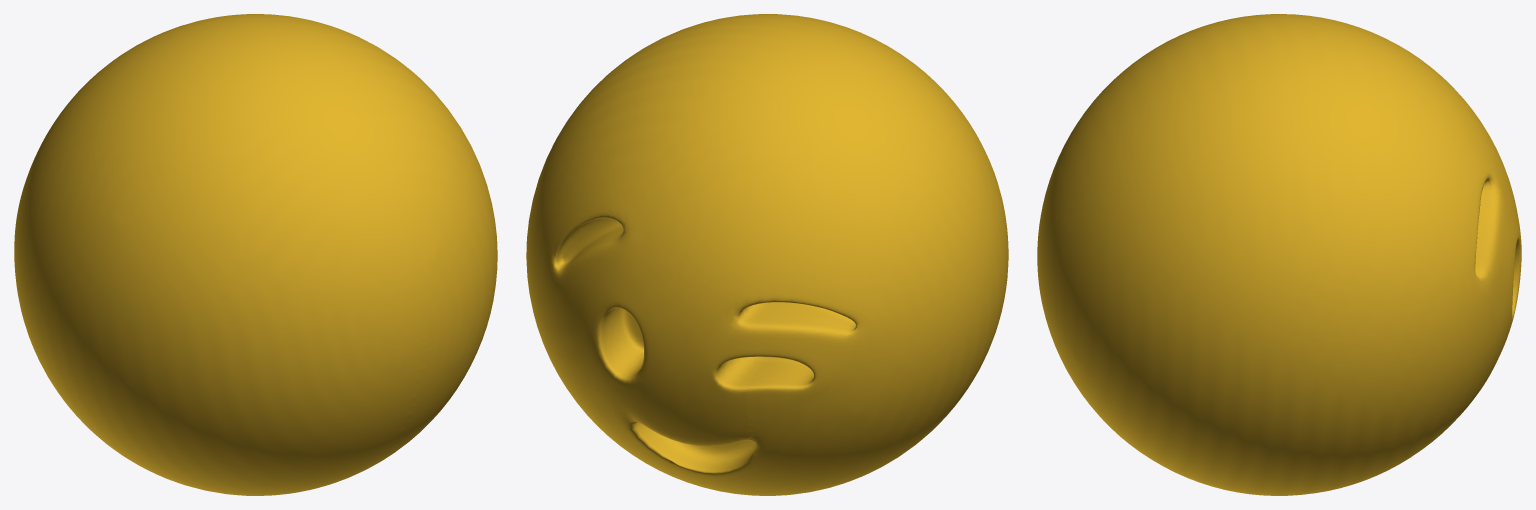
The model's file is wink 3DS.glb.
3 views of the same model, side by side, from view 1: azimuth 30°, elevation 25°; view 2: azimuth 150°, elevation 25°; view 3: azimuth 270°, elevation 25° (orthographic).
Parts seen in each view (by area): view 1: emoji_wink; view 2: emoji_wink; view 3: emoji_wink.
Boxes of the visible parts, left/top/right/bottom form: emoji_wink: left=14, top=14, right=497, bottom=495; emoji_wink: left=526, top=14, right=1008, bottom=495; emoji_wink: left=1037, top=14, right=1521, bottom=495.
Size of the model in its own units: 0.4879 by 0.4872 by 0.4899.
